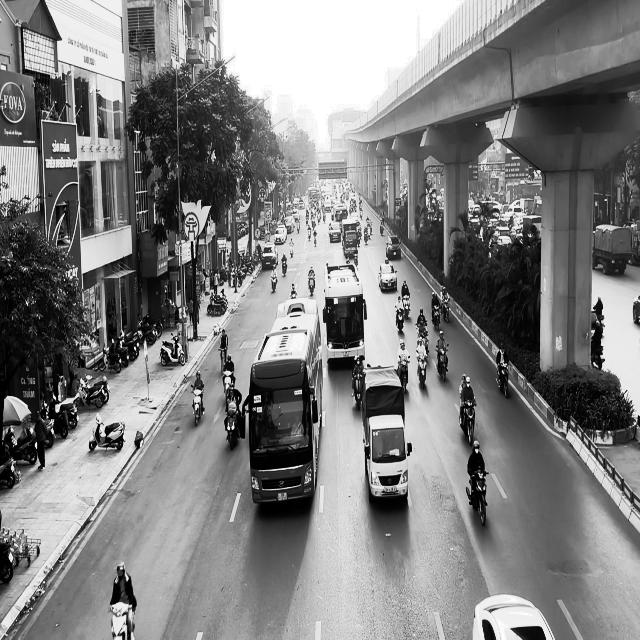bus: (248, 297, 322, 505), (322, 262, 367, 364)
car: (472, 594, 555, 640), (378, 262, 397, 292), (386, 235, 401, 259)
motorbike: (89, 412, 125, 451), (466, 468, 488, 526), (110, 601, 136, 639), (160, 332, 186, 366), (459, 399, 476, 445), (224, 408, 241, 450), (190, 385, 204, 426), (351, 369, 365, 410), (435, 343, 449, 381), (496, 361, 510, 398), (397, 355, 410, 393), (222, 370, 235, 406), (416, 349, 427, 389), (218, 348, 228, 375), (395, 306, 405, 332), (431, 304, 440, 330), (402, 295, 411, 319), (442, 297, 450, 322), (270, 270, 278, 292), (308, 273, 315, 295), (290, 283, 298, 298), (281, 259, 287, 276)
truck: (360, 363, 412, 502)
